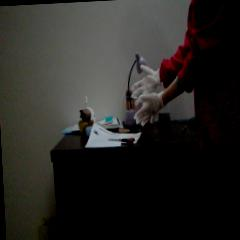gloved: (132, 90, 164, 126), (130, 65, 161, 98)
